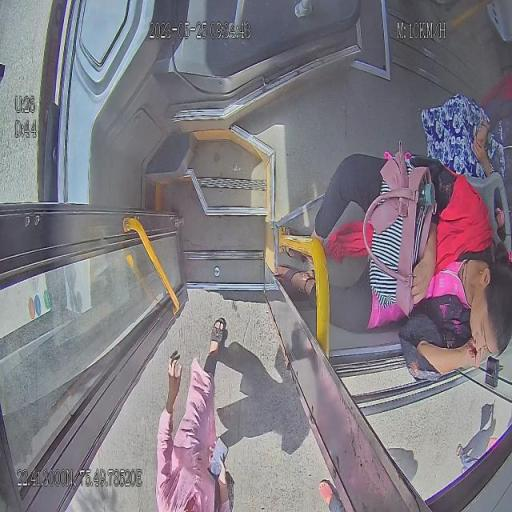persona: (274, 144, 511, 382), (155, 317, 234, 511)
